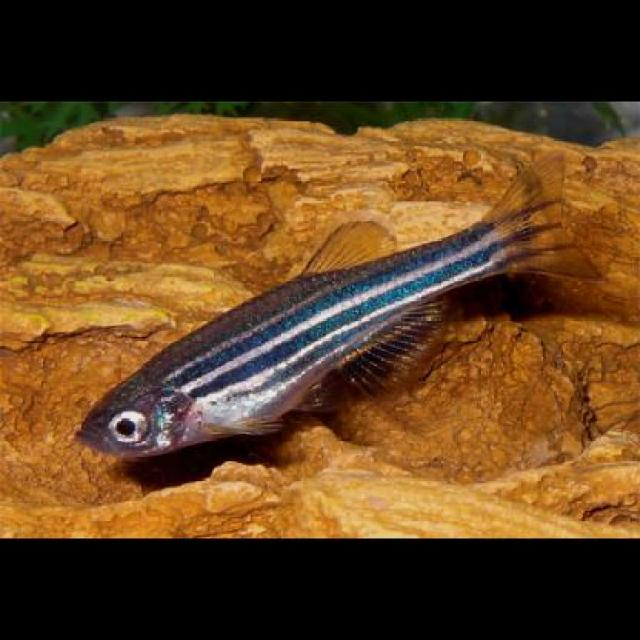ZebraFish: (72, 147, 605, 453)
